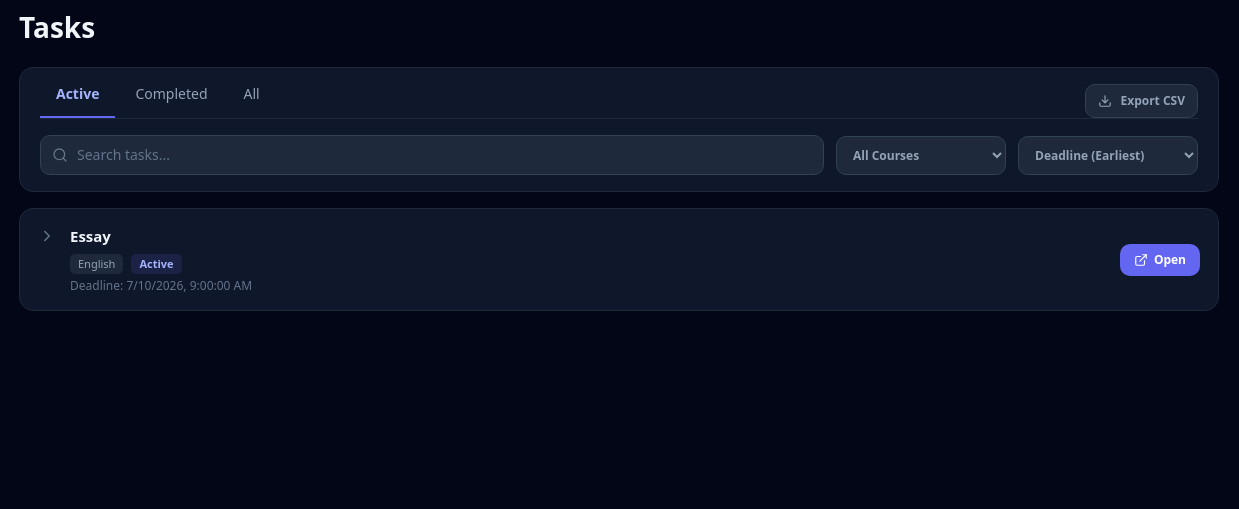
it: TasksPage › lazy-loads assignment details when a task is opened
The image size is (1239, 509).
Expected: the text "Essay" is shown, [70,226,111,246]
What coordinates should you click on to do the following:
click the button "Essay English Active Deadline: 7/10/2026, 9:00:00 AM"
I would click on:
 (90, 236)
Its box is [38,225,1108,294].
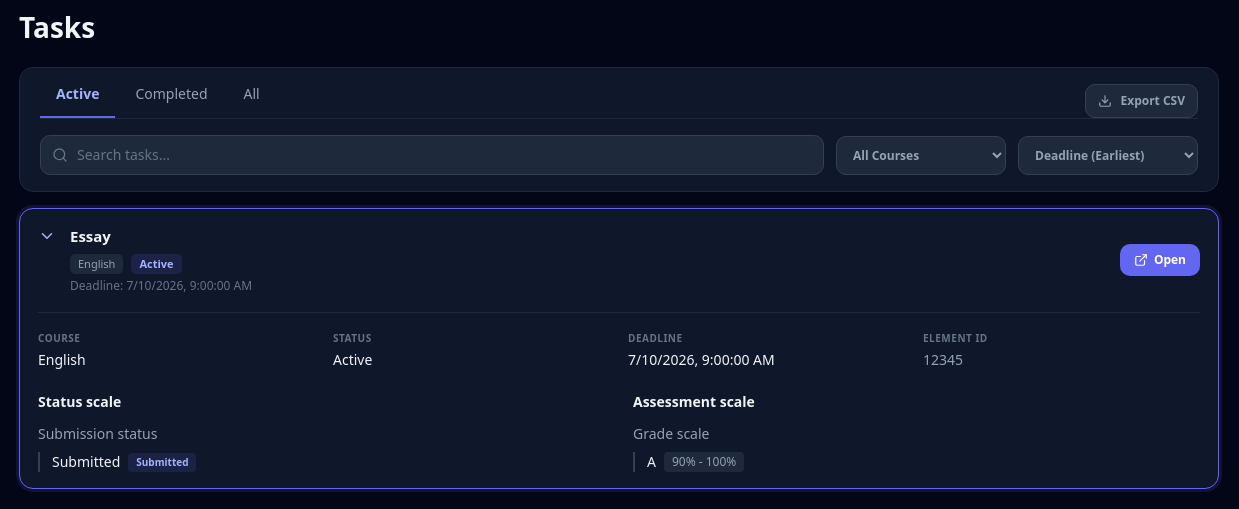
Expected: the heading "Status scale" is shown, [38,392,121,411]
Expected: the text "Submission status" is shown, [38,424,158,443]
Expected: the 1st text "Submitted" is shown, [52,452,120,472]
